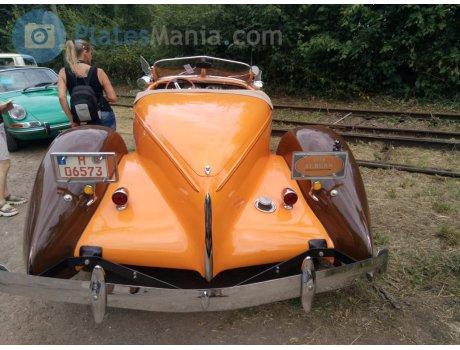License Plates: (62, 155, 113, 176)
